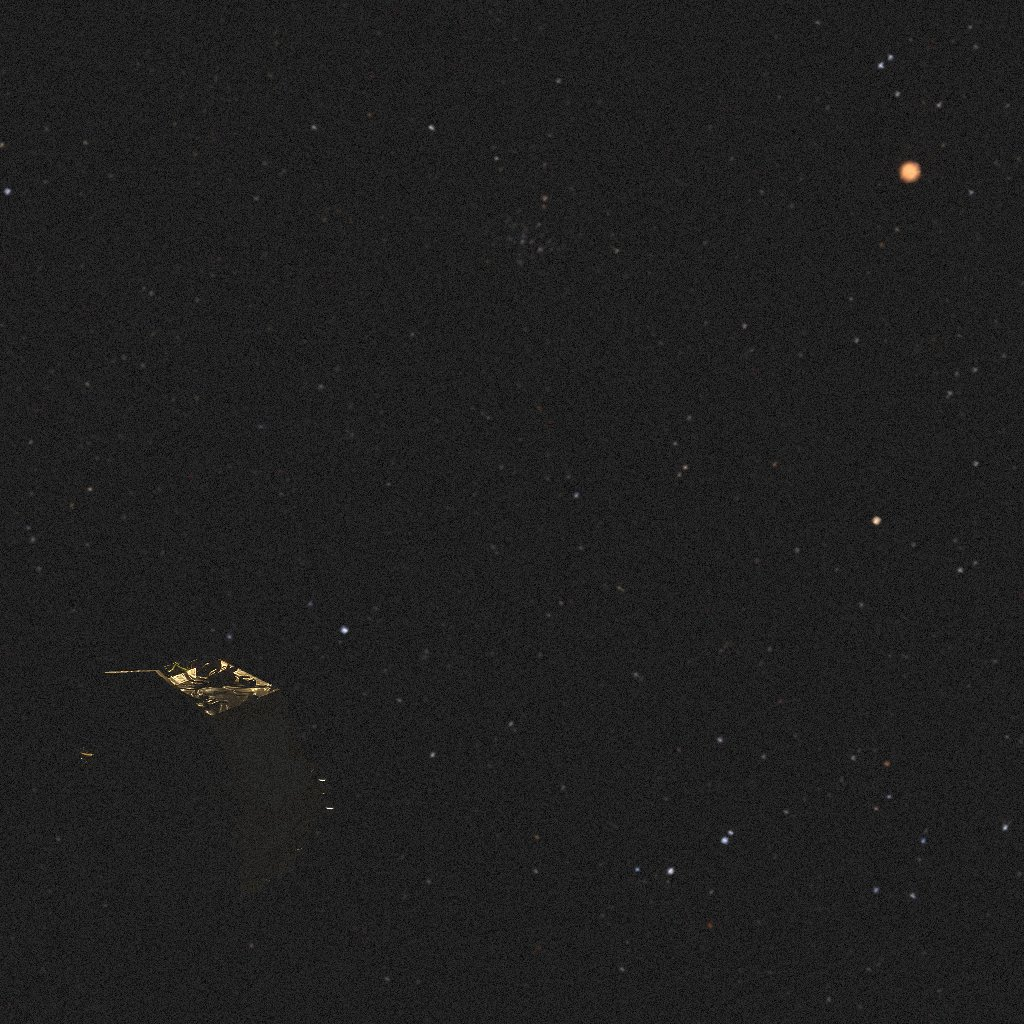lisa_pathfinder: (78, 656, 337, 931)
